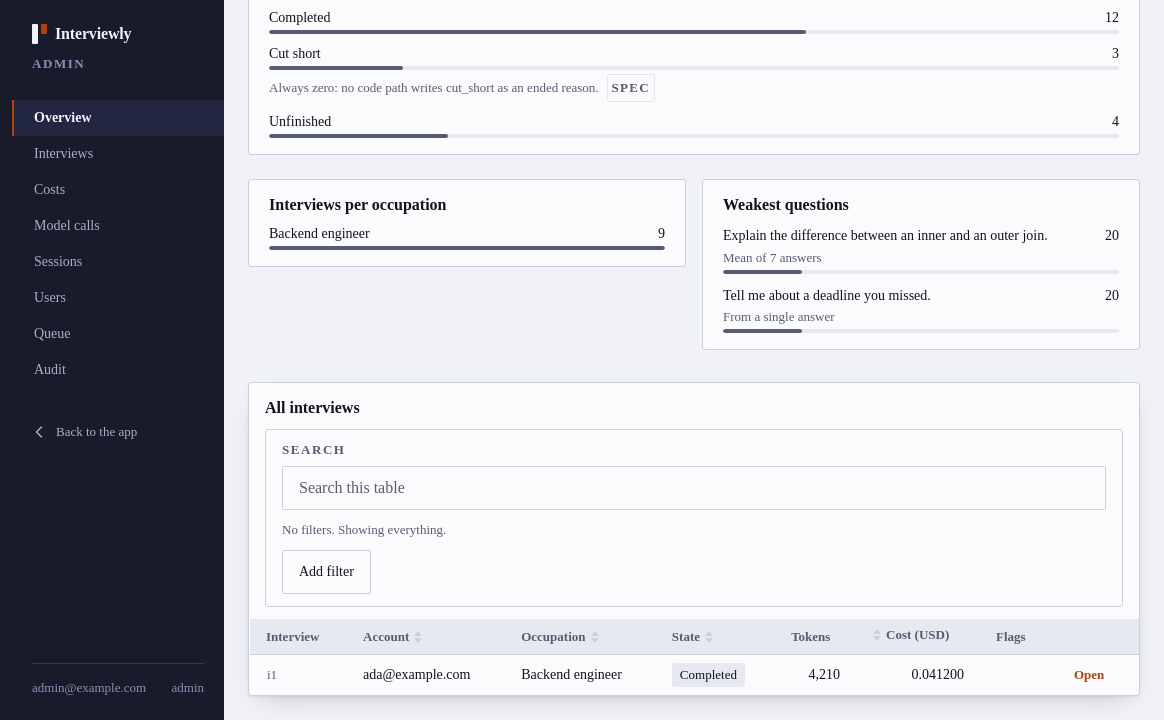
it: admin list + stats (W11) › builds a filter by picking a field and a value, never by typing syntax
(page scrolled)
Click the button with test id "admin-filter-add" at coordinates (326, 572), box left=282, top=550, right=371, bottom=594
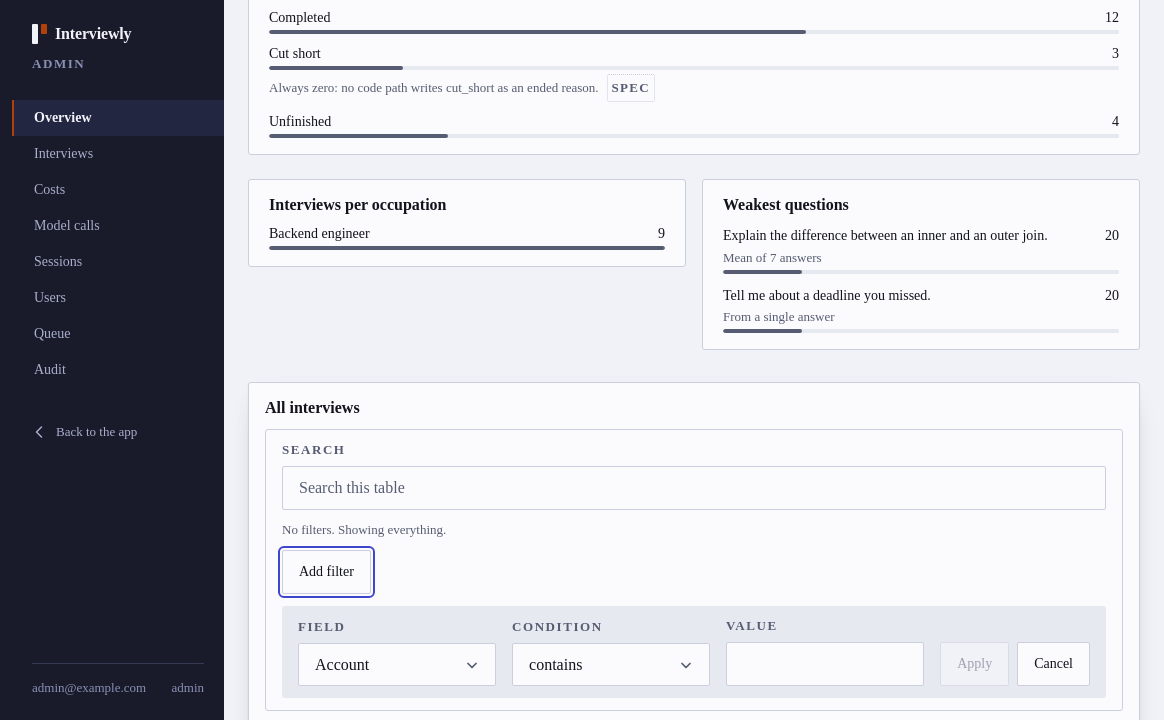
Select "State" in the dropdown with test id "admin-filter-field" at coordinates (397, 665), box left=298, top=643, right=496, bottom=686
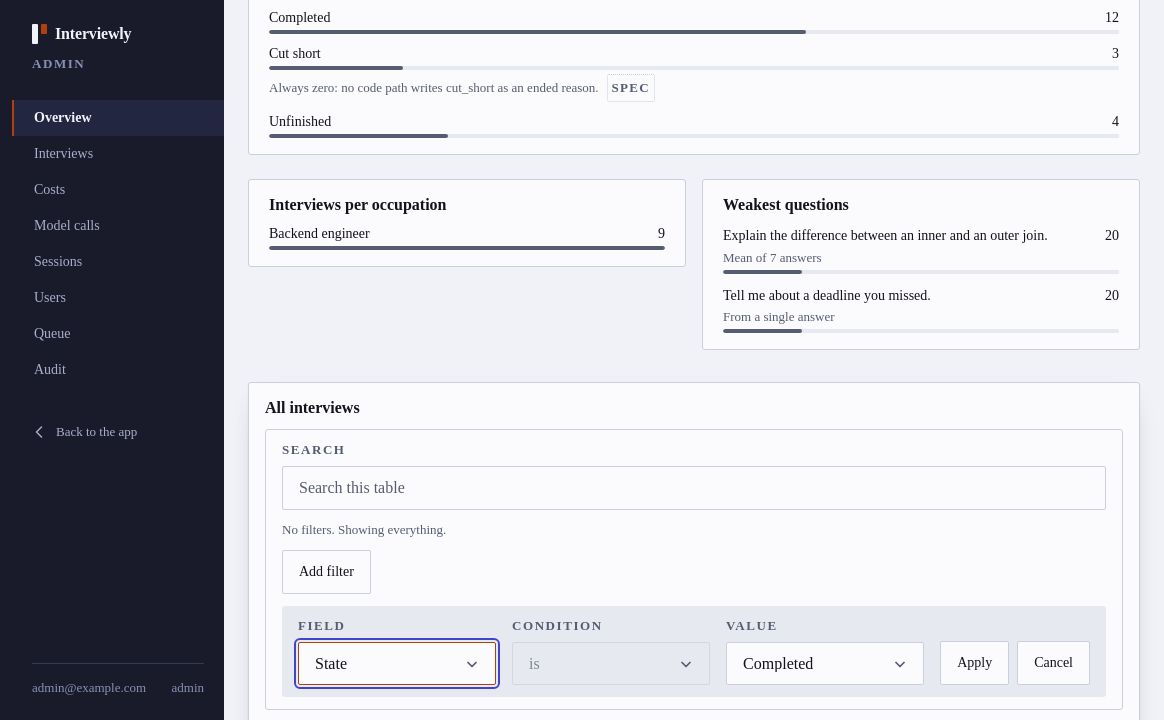
Select "Completed" in the dropdown with test id "admin-filter-value" at coordinates (825, 664), box left=726, top=642, right=924, bottom=685
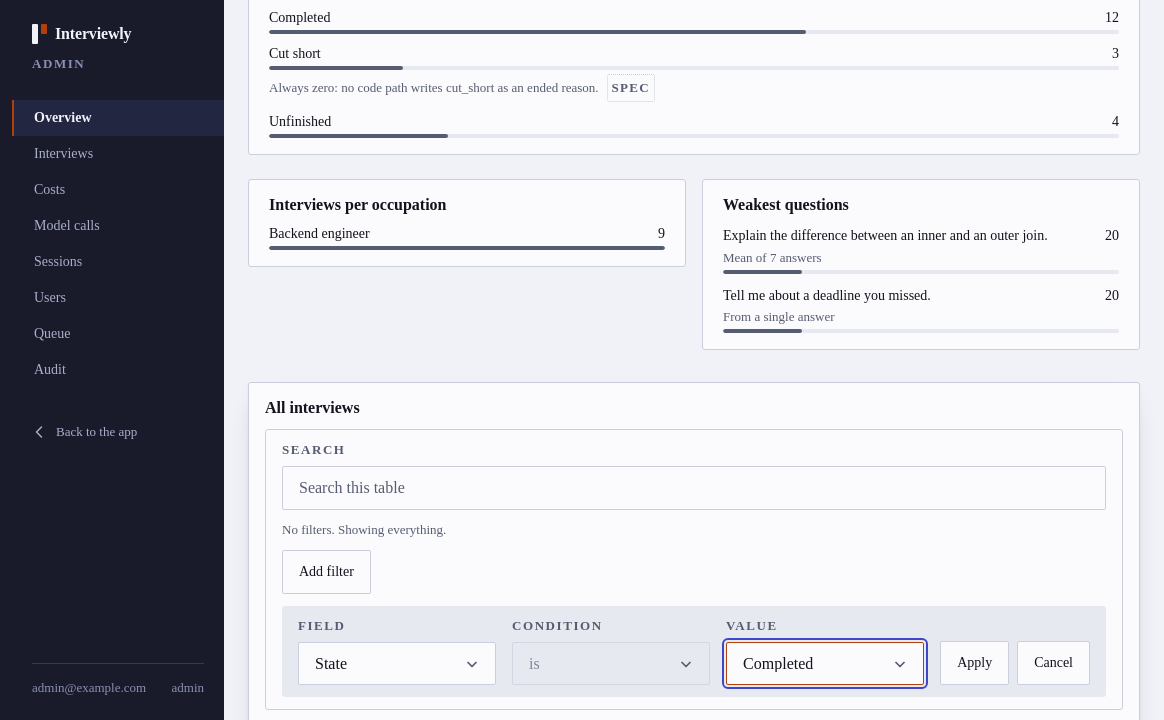
Click the button with test id "admin-filter-apply" at coordinates (975, 663), box left=940, top=641, right=1009, bottom=685
(page scrolled)
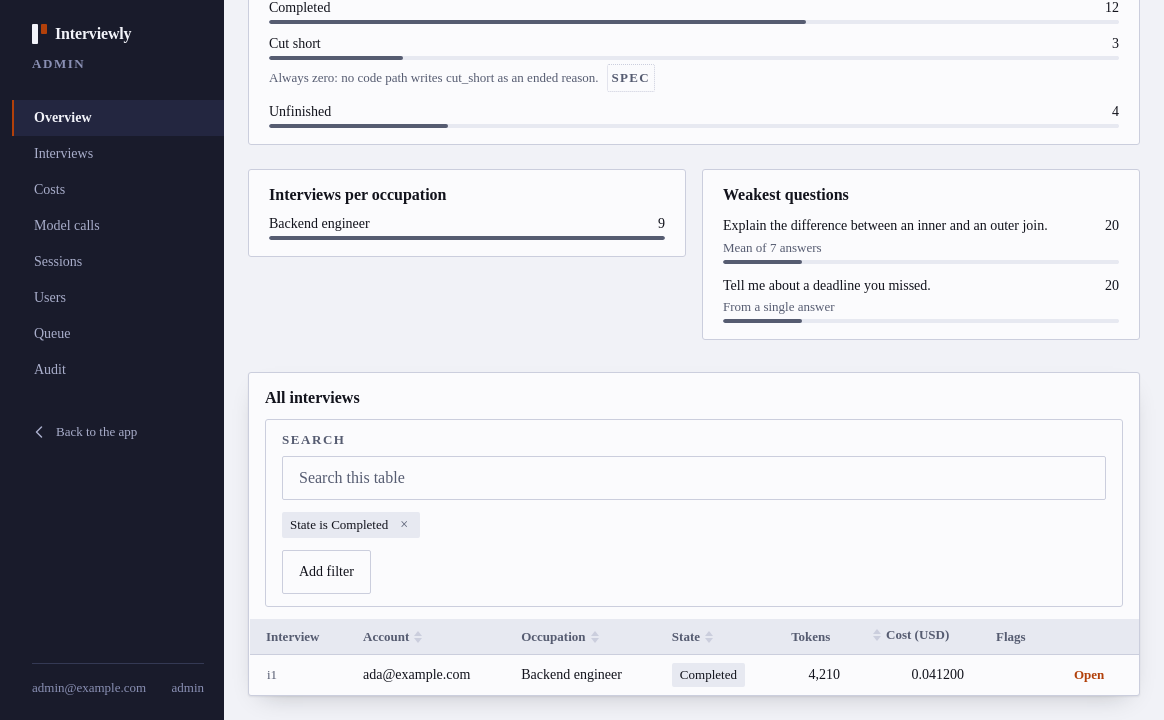
Expected: the list item with test id "admin-filter-chip" shows "State", left=290, top=517, right=388, bottom=532
